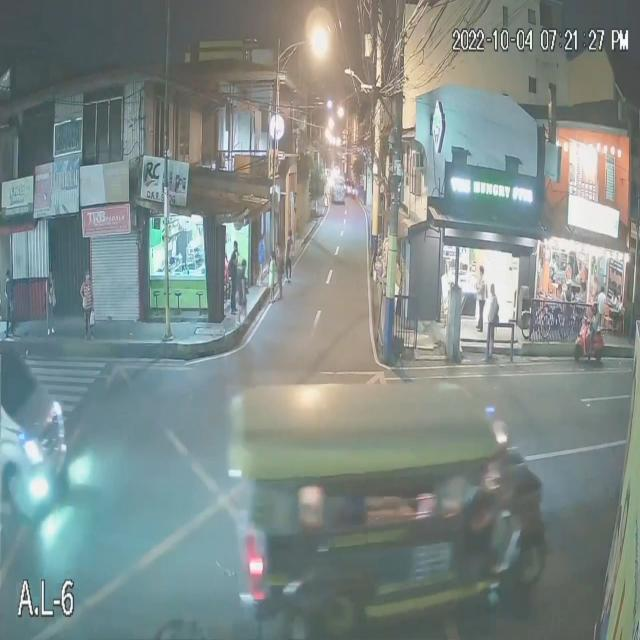Full-Faced: (589, 299, 601, 316)
